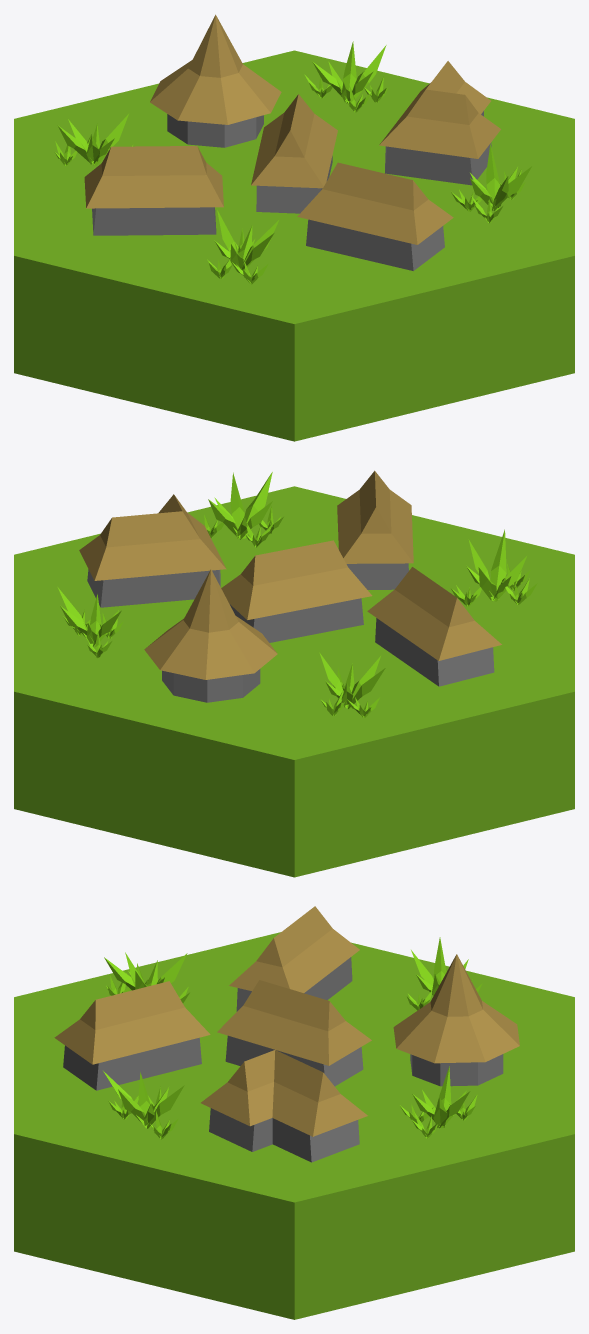
The model's file is Casas_Sabana_5.fbx.
3 renders of one model, top to bottom at view 1: azimuth 30°, elevation 25°; view 2: azimuth 150°, elevation 25°; view 3: azimuth 270°, elevation 25°, orthographic.
Parts seen in each view (by area): view 1: Casas_Sabana_5; view 2: Casas_Sabana_5; view 3: Casas_Sabana_5.
Boxes of the visible parts, x1=… form: Casas_Sabana_5: x1=14, y1=14, x2=574, y2=441; Casas_Sabana_5: x1=14, y1=470, x2=574, y2=877; Casas_Sabana_5: x1=14, y1=906, x2=574, y2=1319.
Bounding box in the file's own units: 200 × 78.5 × 173.
